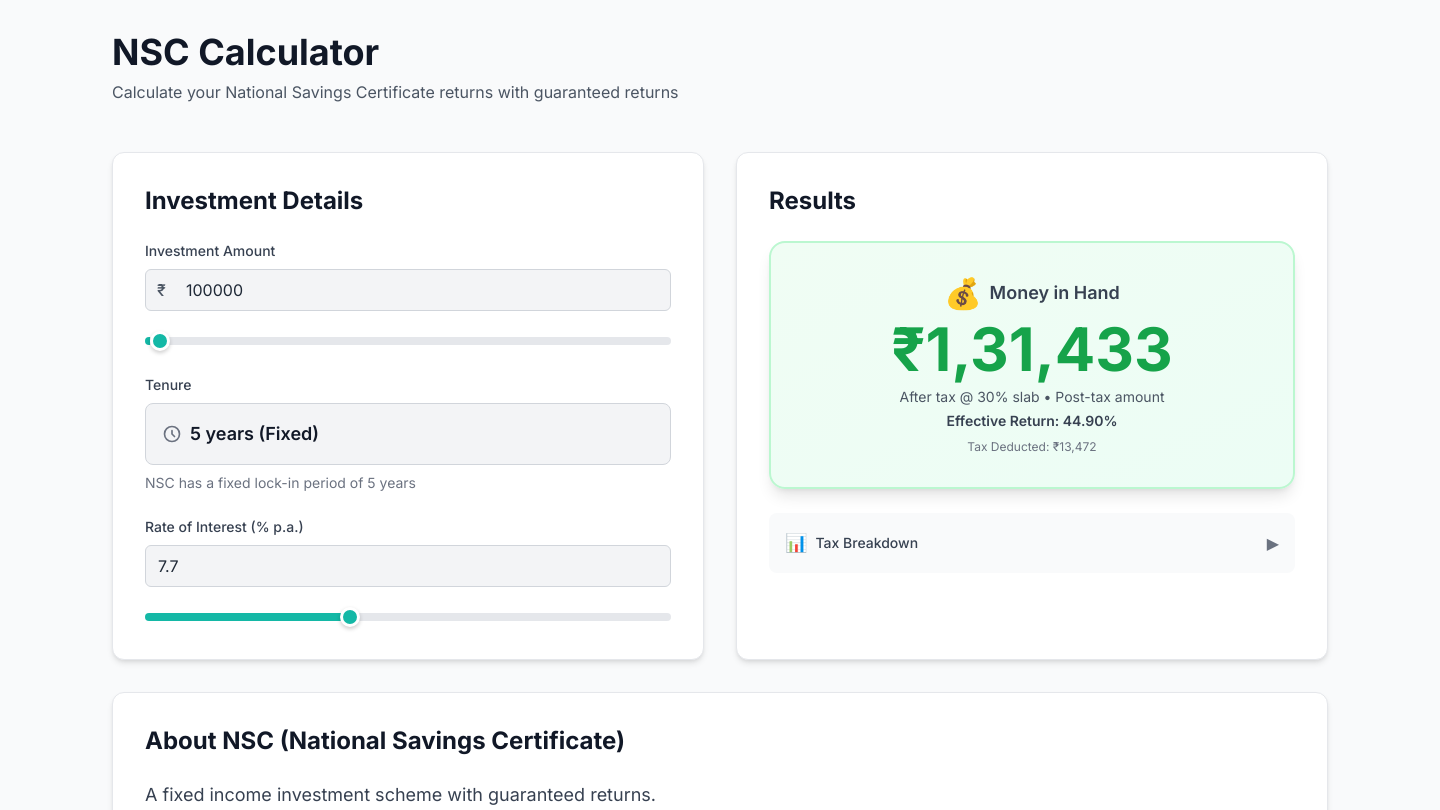
Test: NSC Calculator › NSC-11 — Negative Input › NSC-11: should reject negative principal
This screenshot has width=1440, height=810.
In the number field below "Investment Amount": (408, 290) [145,269,671,311], type "-1000"
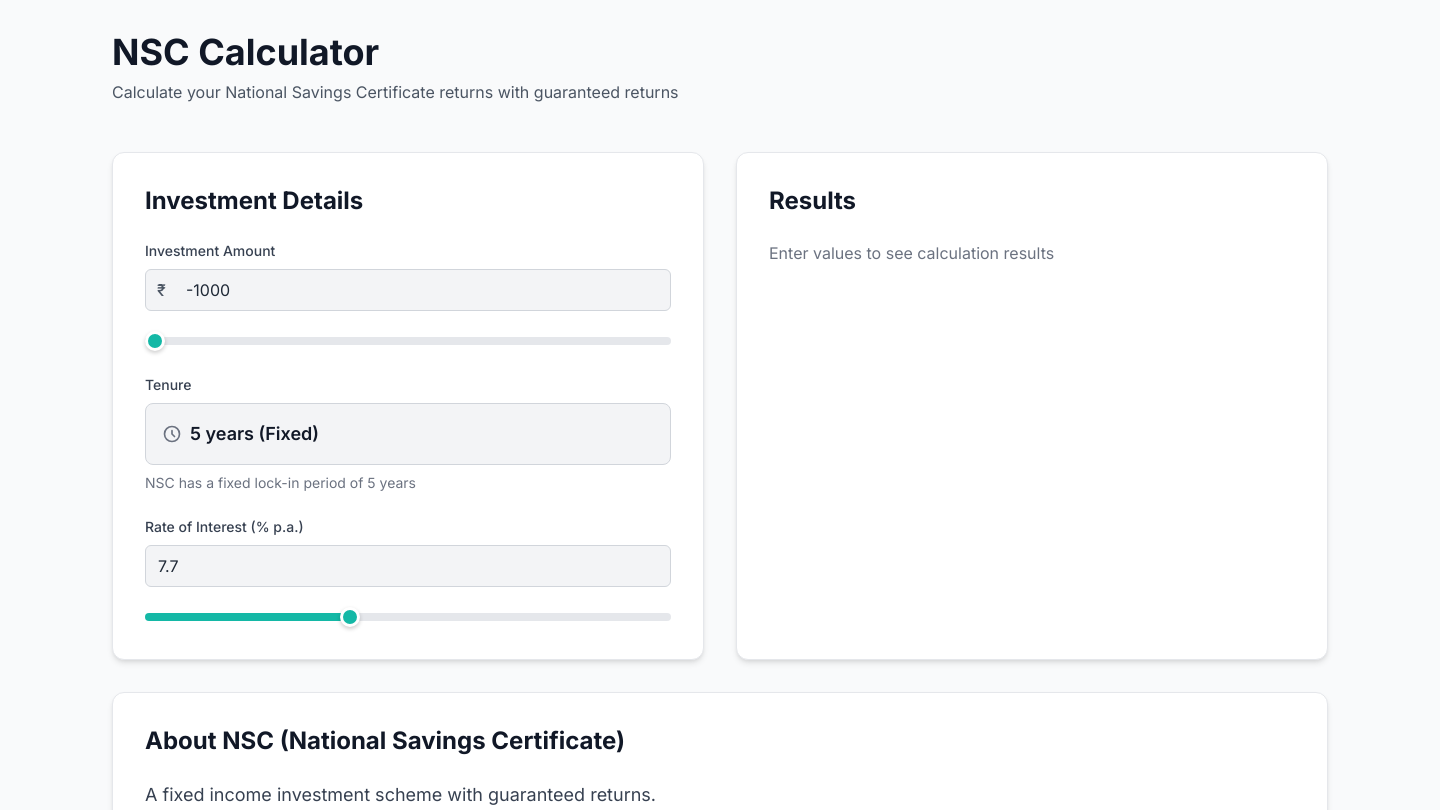
Leave the number field below "Investment Amount", box [145,269,671,311]
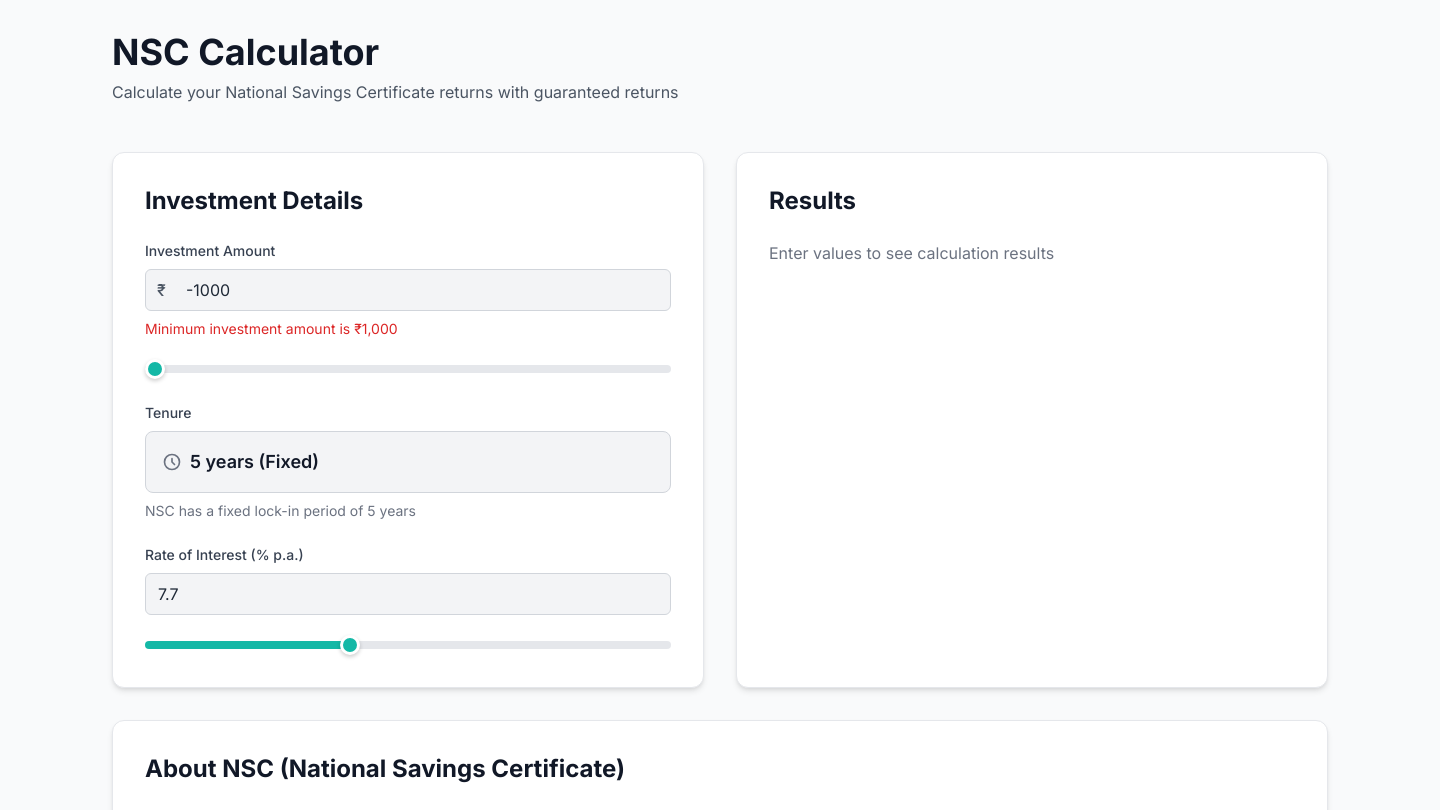
Expected: the text "Minimum investment amount is ₹1,000" is shown, [145,320,398,337]
